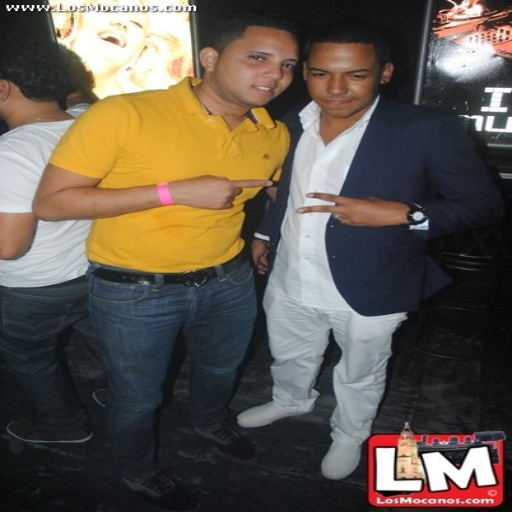hand: (305, 185, 448, 231), (169, 174, 273, 209), (244, 238, 271, 274)
